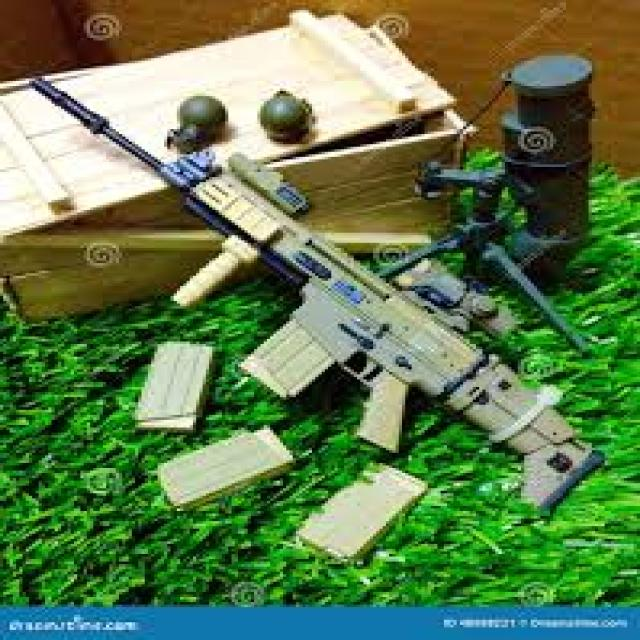Gun: (9, 59, 638, 518)
